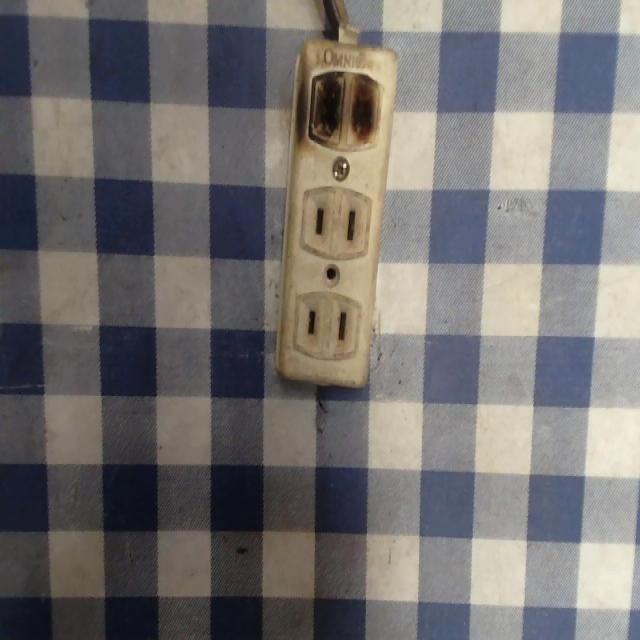-: (304, 57, 389, 147)
